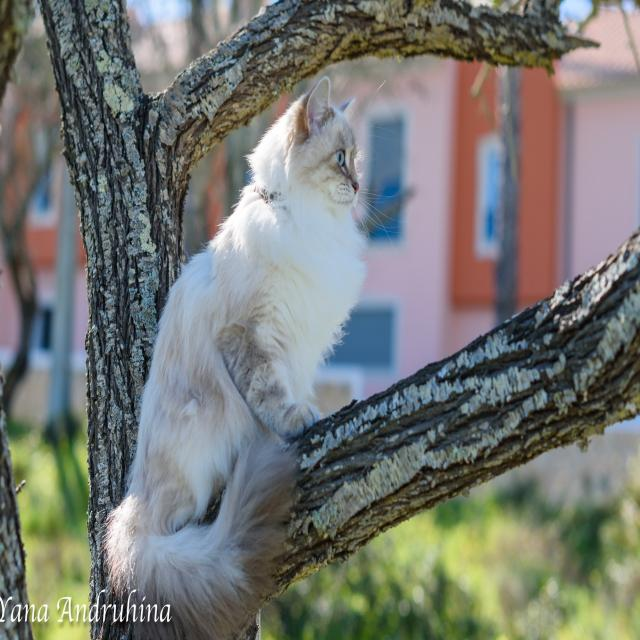Neva Masquerade: (103, 70, 373, 640)
